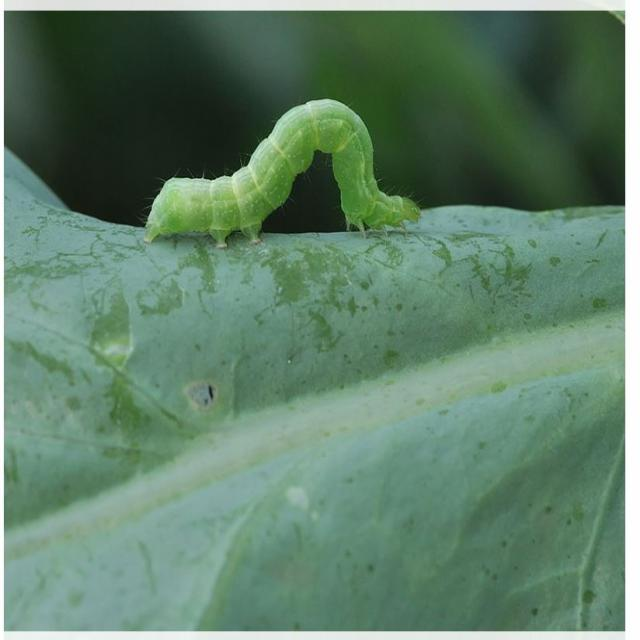looper: (142, 73, 434, 254)
